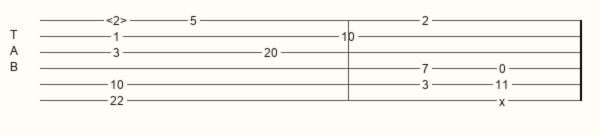0: (499, 62, 510, 75)
1: (113, 30, 124, 43)
10: (110, 78, 128, 91), (341, 30, 359, 43)
11: (495, 78, 513, 91)
2: (422, 14, 433, 27)
20: (264, 46, 282, 59)
22: (110, 94, 128, 107)
3: (113, 46, 124, 59), (422, 78, 433, 91)
5: (190, 14, 201, 27)
7: (422, 62, 433, 75)
harmonic: (106, 14, 131, 27)
x: (499, 95, 509, 106)
